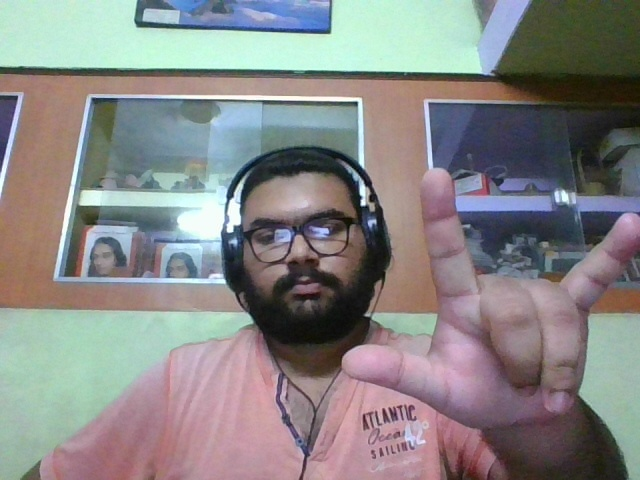hello: (341, 168, 640, 427)
